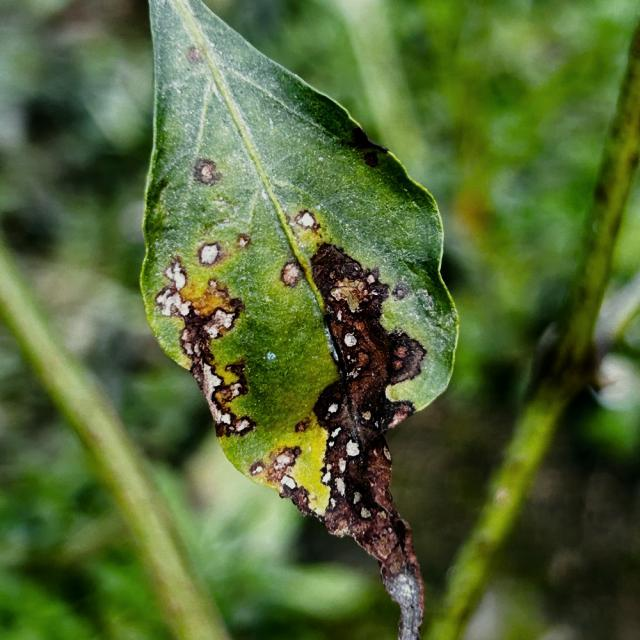Bercak Daun Serkospora: (136, 0, 467, 640)
